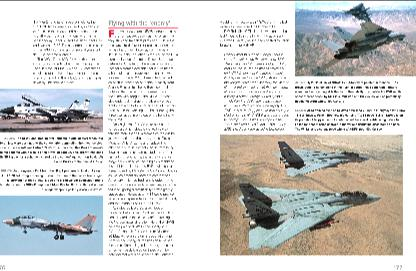EF2000: (238, 182, 382, 248), (320, 19, 406, 68), (272, 140, 370, 175), (0, 93, 101, 123), (0, 213, 98, 238), (340, 2, 374, 21)
